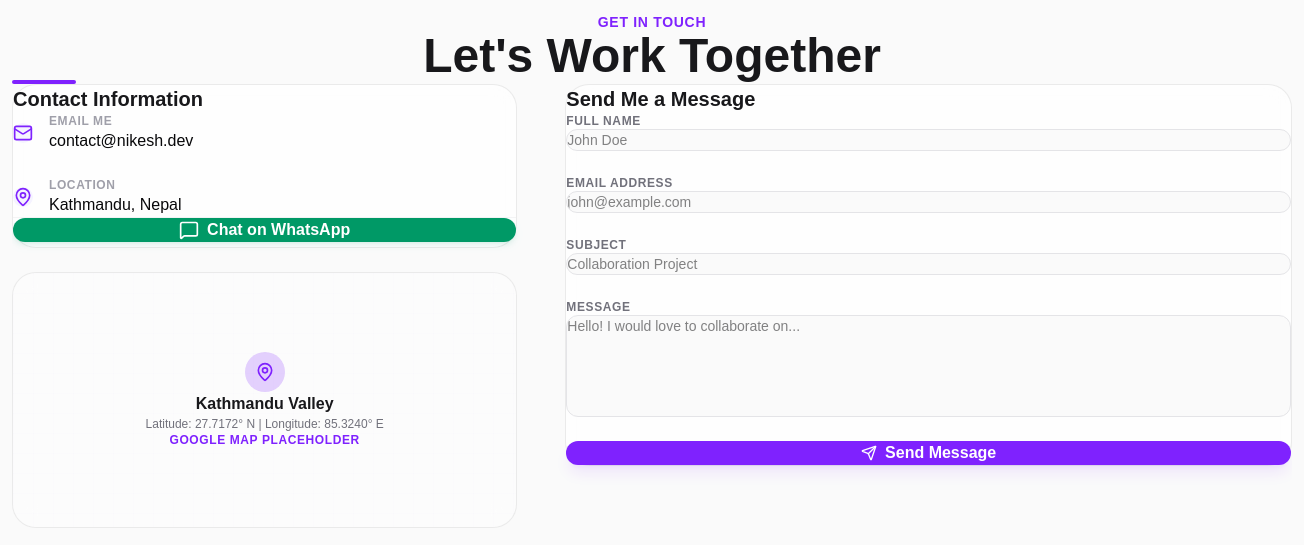
Test: Contact Component Form Validation › displays validation error for invalid email
Type "Nikesh Dev" into the field labelled "Full Name" at [929, 140], box top-left (566, 129), bottom-right (1291, 151)
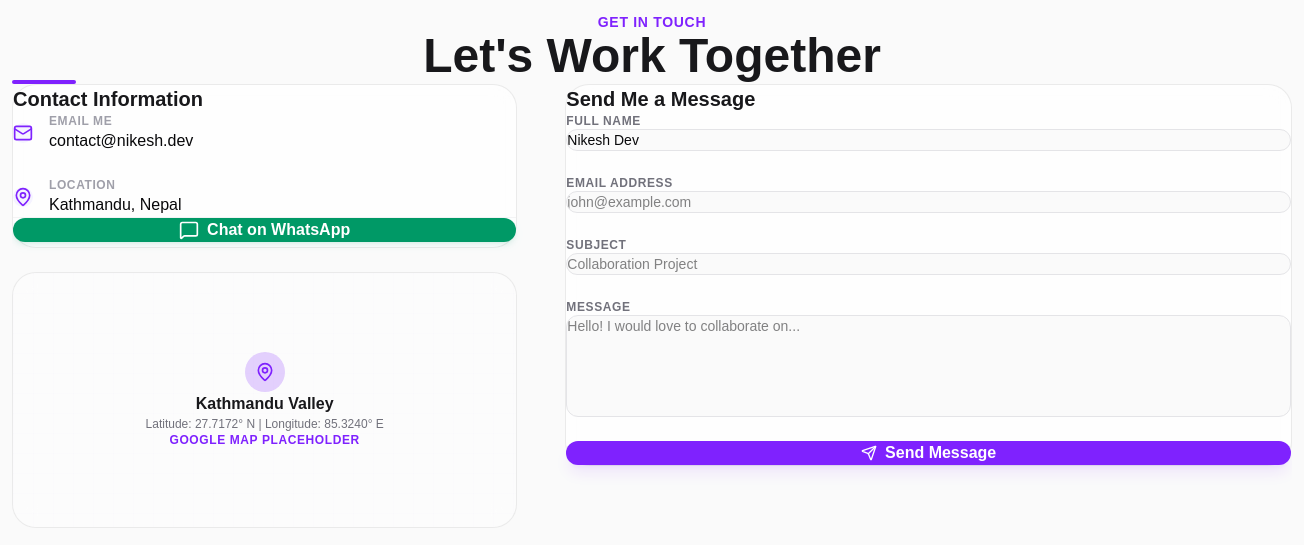
Type "invalid-email" into the field labelled "Email Address" at [929, 202], box top-left (566, 191), bottom-right (1291, 213)
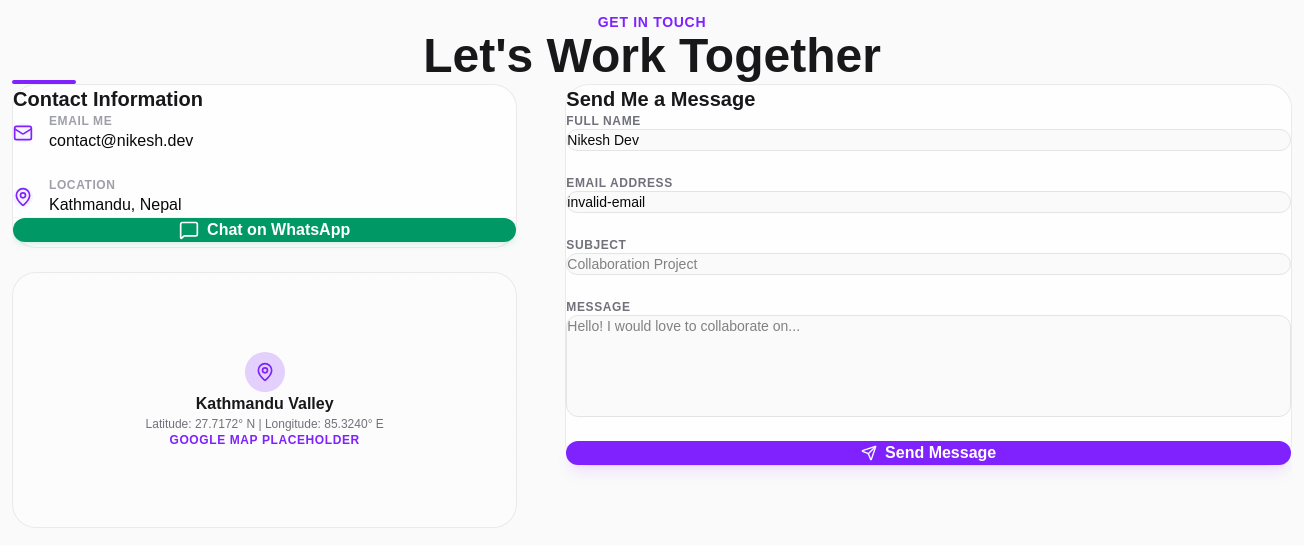
Type "Project Collaboration" into the field labelled "Subject" at [929, 264], box top-left (566, 253), bottom-right (1291, 275)
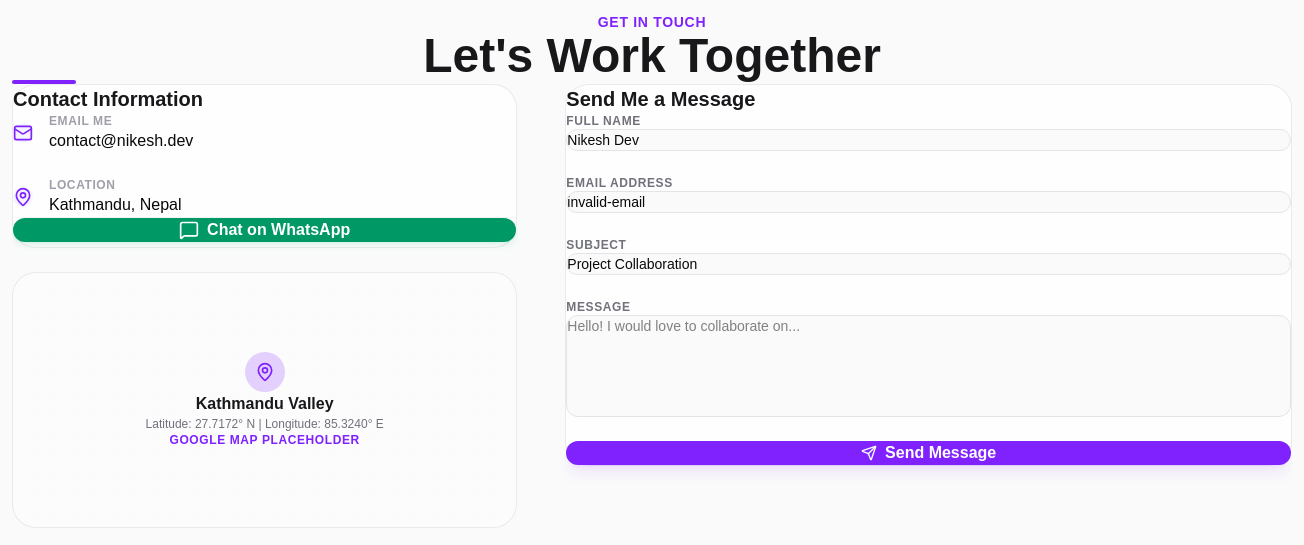
Type "Hello, let's collaborate on a Next.js project!" into the text box labelled "Message" at [929, 366], box top-left (566, 315), bottom-right (1291, 417)
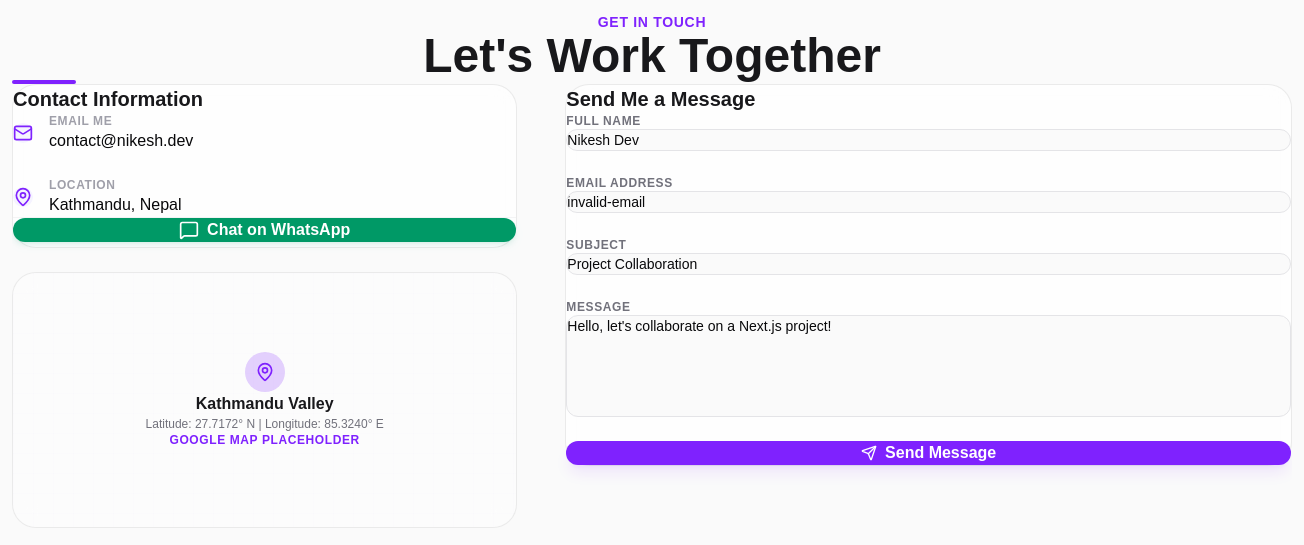
Click the button "Send Message" at [929, 453], box top-left (566, 441), bottom-right (1291, 465)
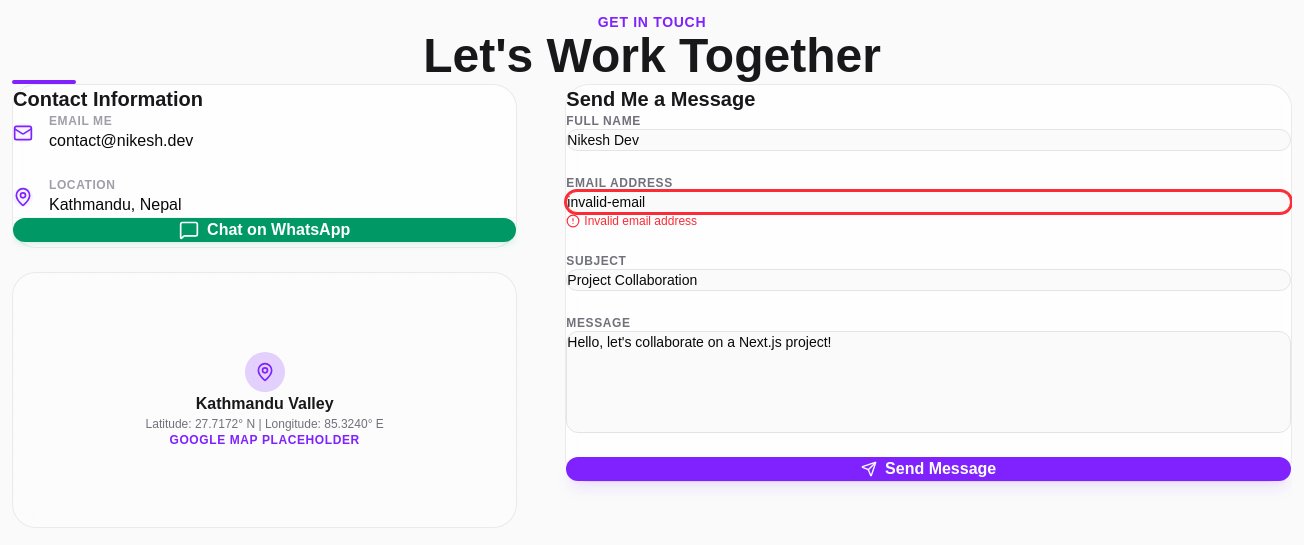
Expected: the text "Invalid email address" is shown, top-left (566, 214), bottom-right (697, 228)
